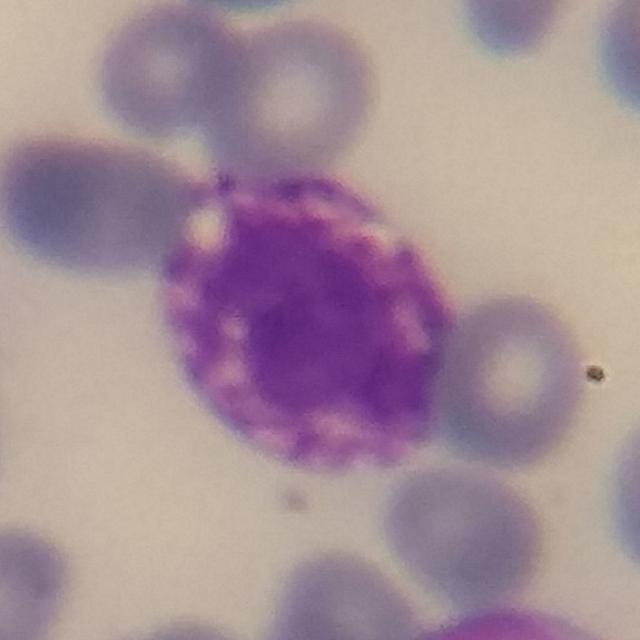baso: (154, 151, 462, 483)
